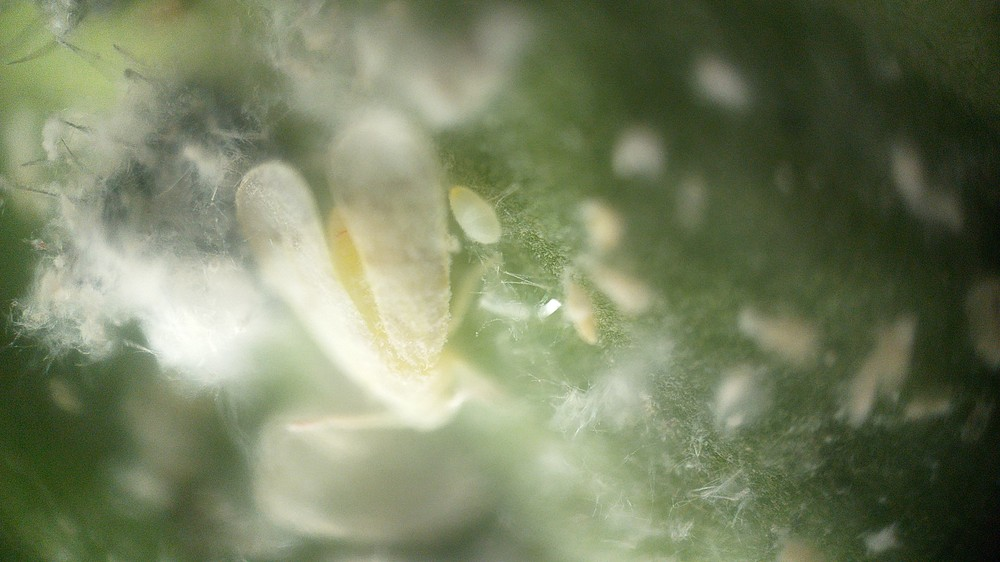Mosca Blanca: (225, 124, 526, 454)
